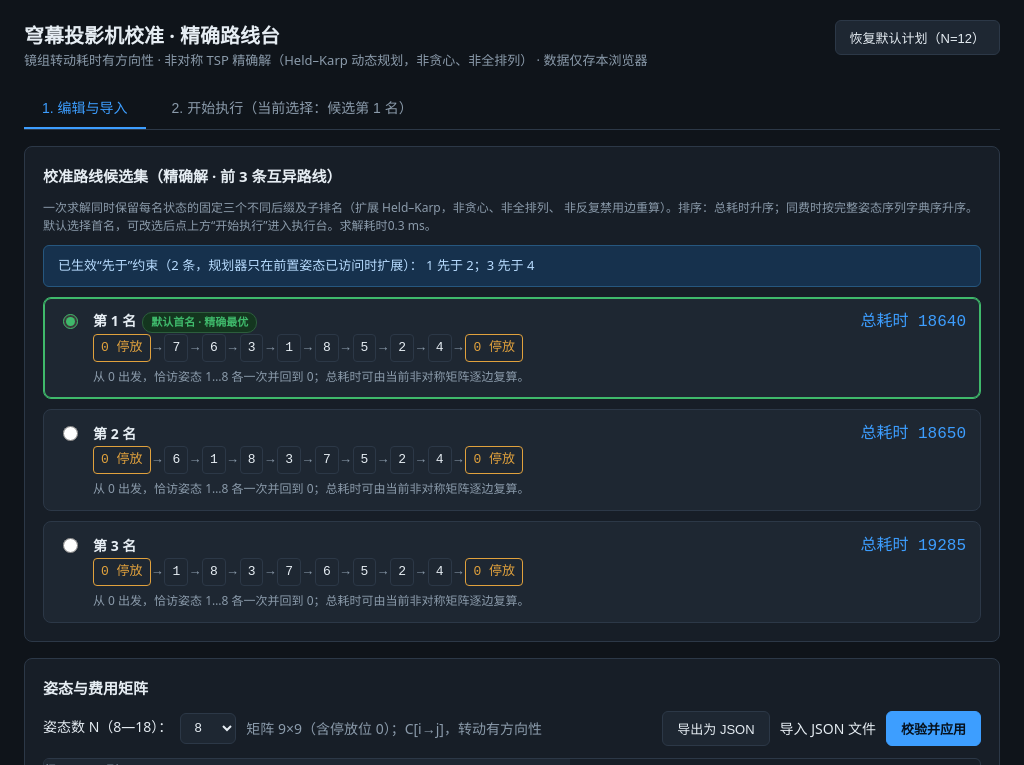
Test: 页面：混合存储恢复（刷新沿用同一严格校验） › 等价共存的混合记录：刷新后作为有效计划恢复，约束仍在
Expected: the message with test id "prereq-banner" shows "1 先于 2", x1=426 y1=256 x2=534 y2=274
Expected: the message with test id "prereq-banner" shows "3 先于 4", x1=426 y1=256 x2=534 y2=274
Click the button "2. 开始执行（当前选择：候选第 1 名）". click: coordinates (292, 108)
box: x1=154 y1=86 x2=431 y2=128
(page scrolled)
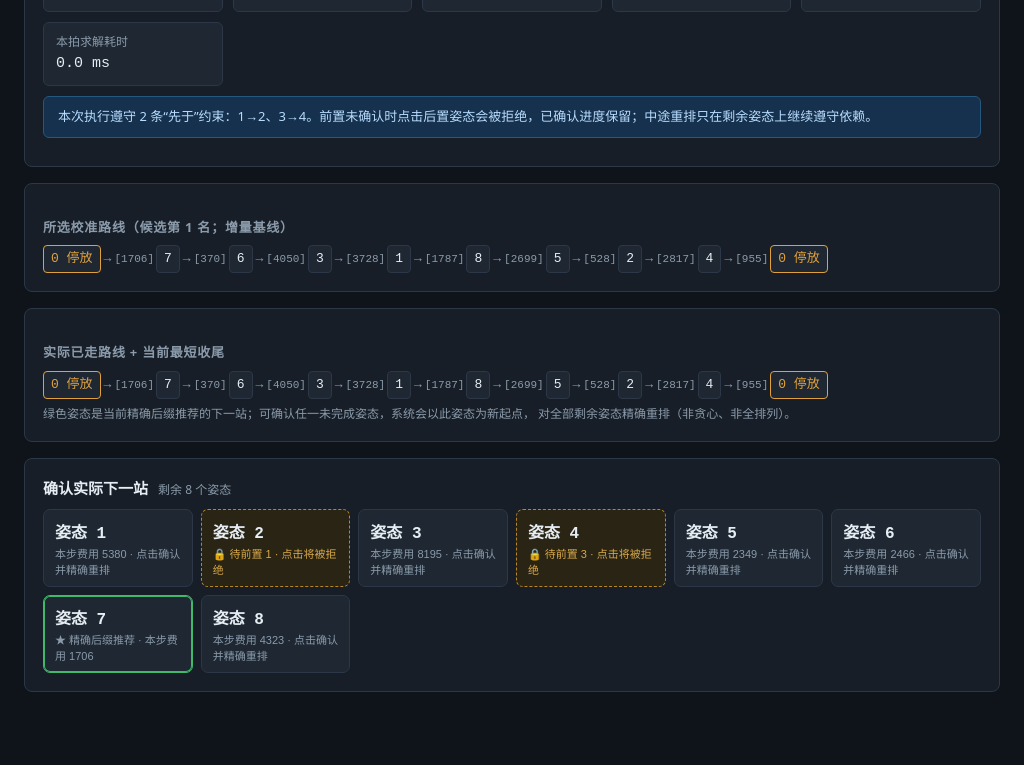
Now the message with test id "exec-prereq-banner" shows "1→2", box x1=238 y1=107 x2=306 y2=125
Now the button titled "姿态 2 前置未完成：1" is shown, box x1=201 y1=509 x2=350 y2=587
